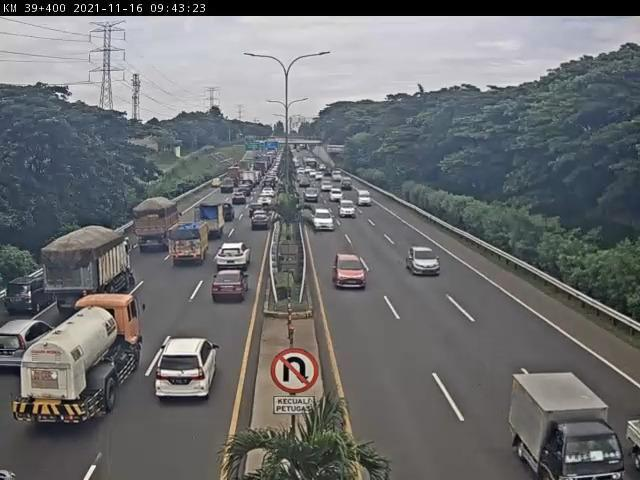car: (151, 327, 228, 415), (1, 315, 59, 380), (4, 270, 58, 325), (327, 250, 380, 296), (201, 265, 250, 310), (209, 239, 255, 281), (403, 240, 449, 279), (625, 389, 640, 480), (246, 208, 276, 238), (311, 208, 340, 236), (247, 201, 268, 221), (338, 198, 357, 220), (302, 187, 324, 205), (220, 199, 236, 223), (230, 190, 249, 209), (356, 190, 375, 209), (205, 176, 225, 192), (258, 196, 276, 212)
truck: (9, 290, 153, 437), (509, 369, 618, 480), (42, 226, 133, 312), (135, 199, 183, 256), (168, 222, 210, 268), (195, 203, 228, 240)
